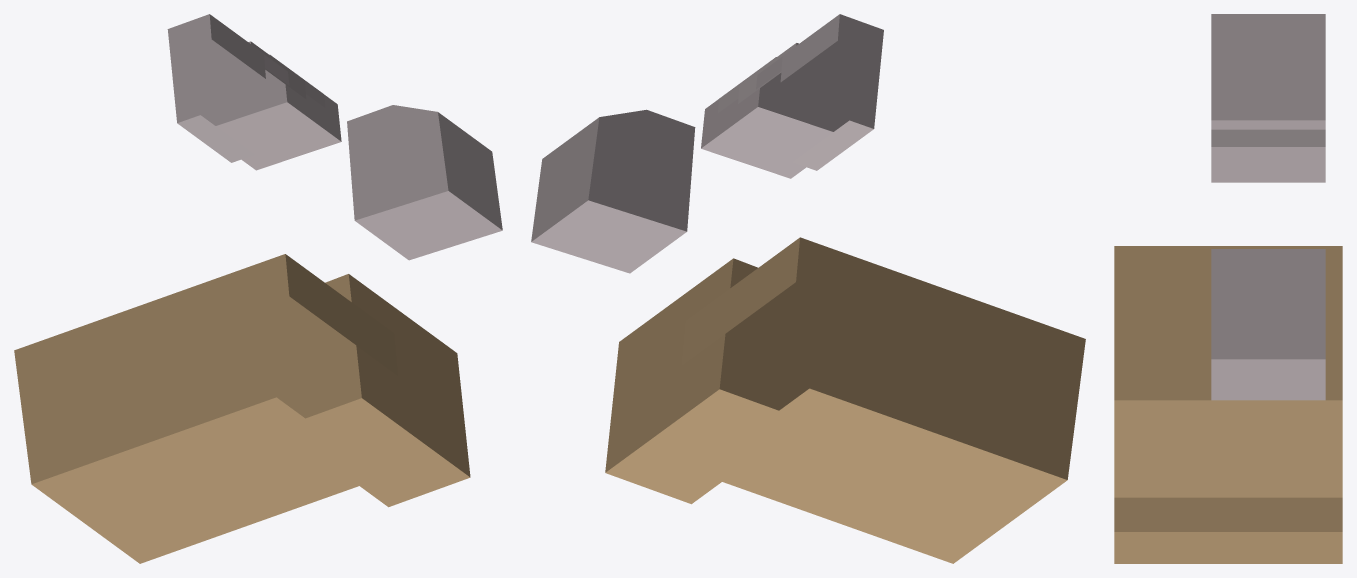
The picture shows the model from 3 angles, left to right: view 1: azimuth 30°, elevation 25°; view 2: azimuth 150°, elevation 25°; view 3: azimuth 270°, elevation 25°; orthographic projection. The views are drawn at different scales.
Visible parts, largest first — view 1: 0_3_0_1_1_2_0_0_1; view 2: 0_3_0_1_1_2_0_0_1; view 3: 0_3_0_1_1_2_0_0_1.
Boxes of the visible parts, x1,y1,x2,y2 form: 0_3_0_1_1_2_0_0_1: (14, 14, 502, 563); 0_3_0_1_1_2_0_0_1: (531, 14, 1085, 563); 0_3_0_1_1_2_0_0_1: (1114, 14, 1342, 563).
Size of the model in its own units: 54.36 by 53.48 by 24.
